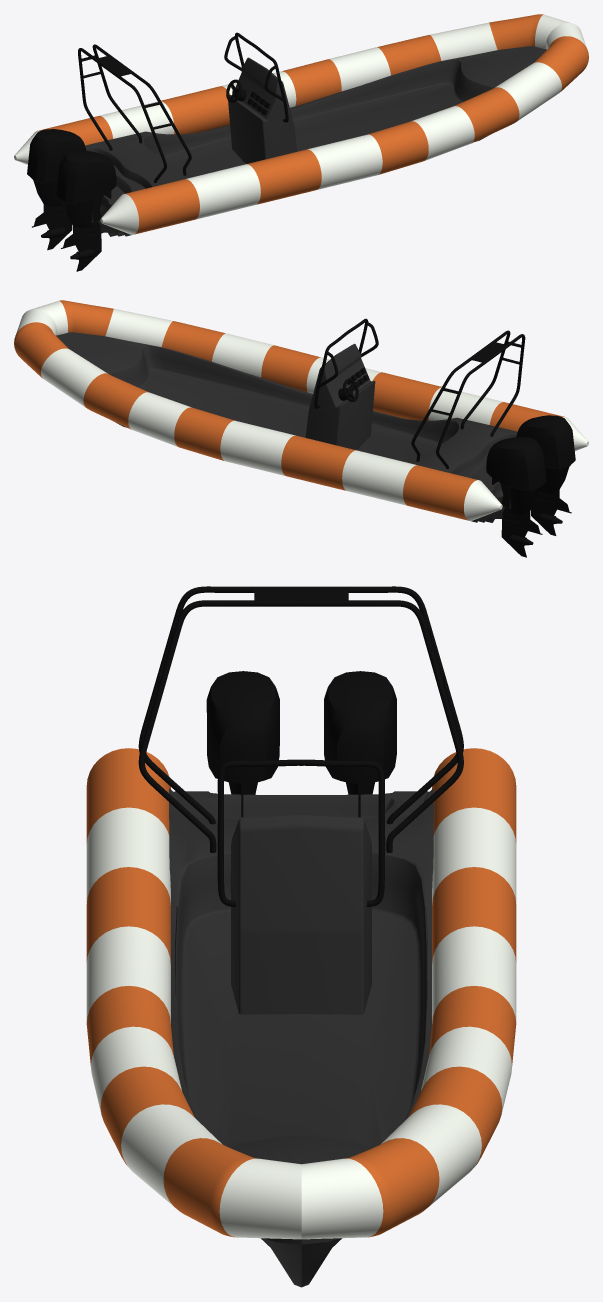
The model's file is Askeri_Yerli_Sahil_Güvenlik_Zodiac.fbx.
3 views of the same model, one above another, from view 1: azimuth 30°, elevation 25°; view 2: azimuth 150°, elevation 25°; view 3: azimuth 270°, elevation 25° (orthographic). The views are drawn at different scales.
Visible parts, largest first — view 1: Zodiac; view 2: Zodiac; view 3: Zodiac.
Boxes of the visible parts, <box> form: Zodiac: <box>14,14,588,271</box>; Zodiac: <box>14,300,588,557</box>; Zodiac: <box>86,586,516,1287</box>.
Size of the model in its own units: 465 by 151 by 161.
